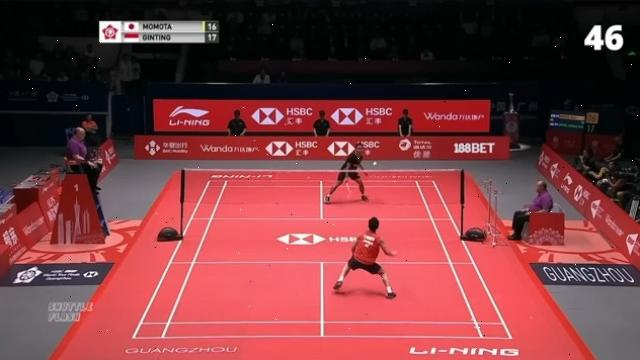Shuttlecock: (370, 160, 380, 170)
